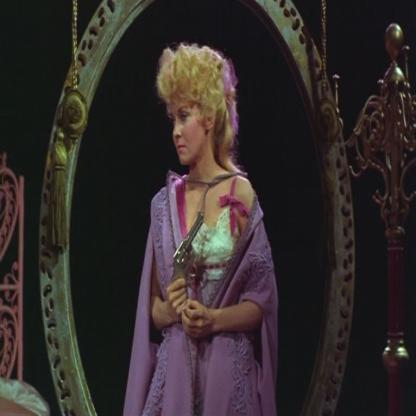gun: (169, 184, 207, 302)
